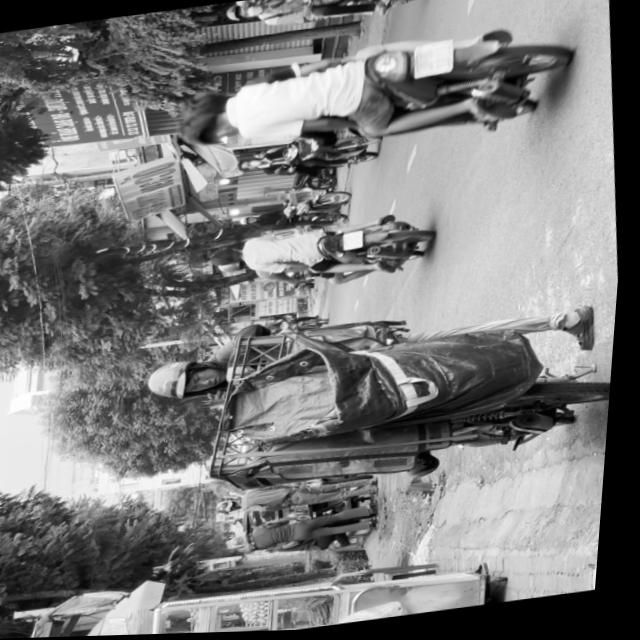helmet: (223, 0, 263, 21), (216, 259, 248, 275), (233, 0, 269, 8)
licenseplate: (168, 17, 579, 172), (205, 207, 442, 301), (224, 0, 443, 33)
motorcyclist: (177, 107, 240, 147), (181, 87, 235, 118), (210, 243, 249, 268)
nohelmet: (412, 41, 457, 79), (345, 232, 368, 251)
